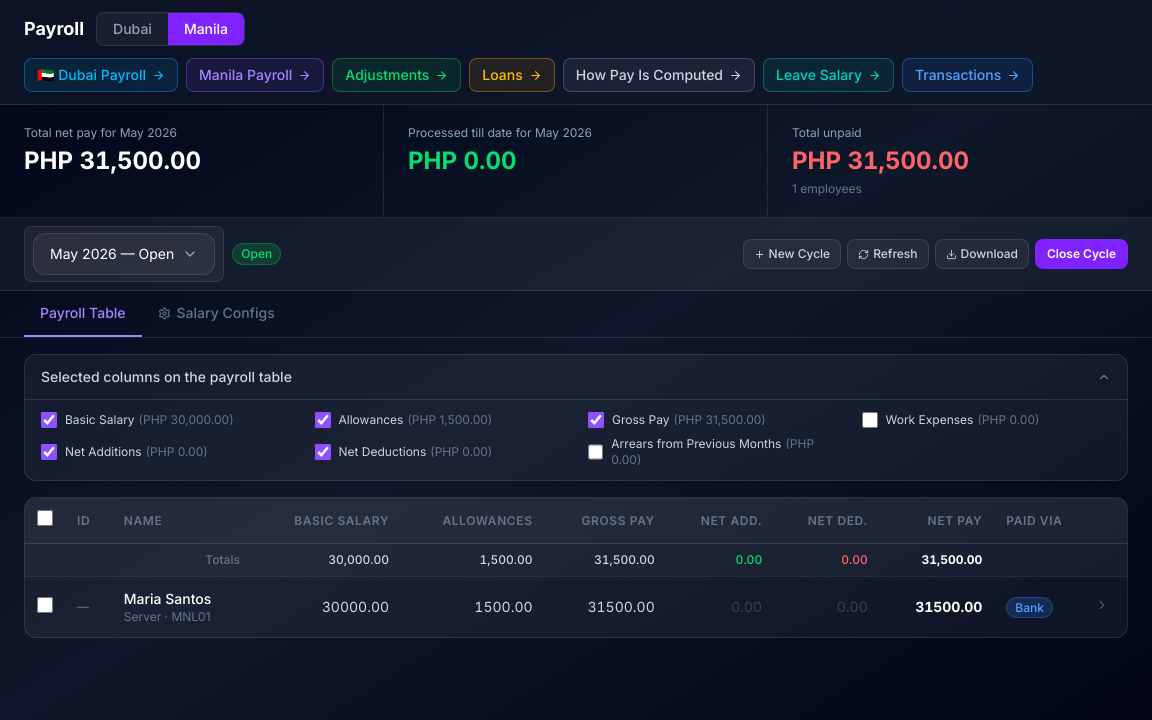
it: PayrollPage — defaults and city switching › clears rows and KPI totals when switching city
expect the text "Maria Santos" is shown: met, box [124,590,211,607]
What coordinates should you click on to do the following:
click the button "Dubai"
I would click on:
 (132, 29)
Its box is [97,13,168,45].
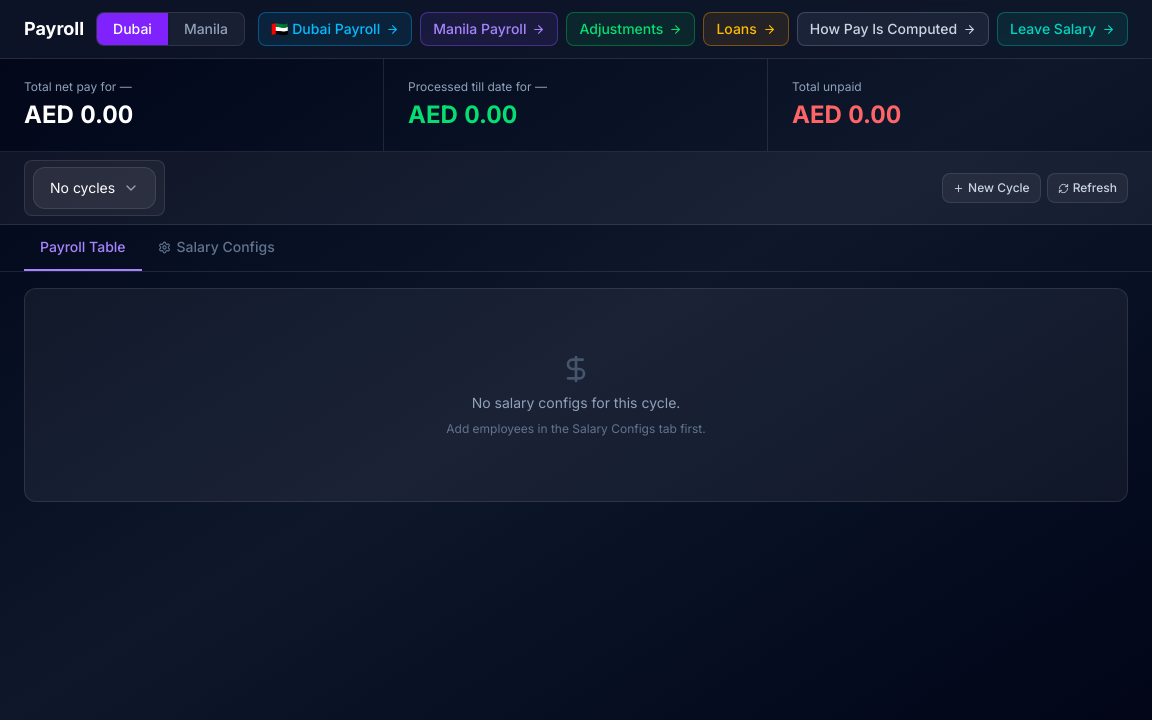
expect the text "Maria Santos" is gone: met
